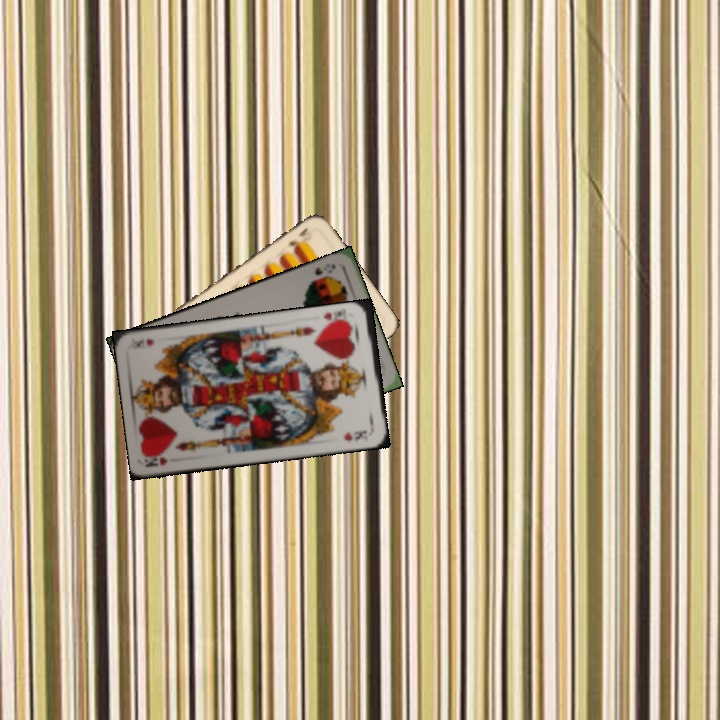E10: (285, 224, 310, 252)
HK: (320, 307, 352, 328), (143, 451, 170, 470)
SO: (311, 259, 338, 278)
